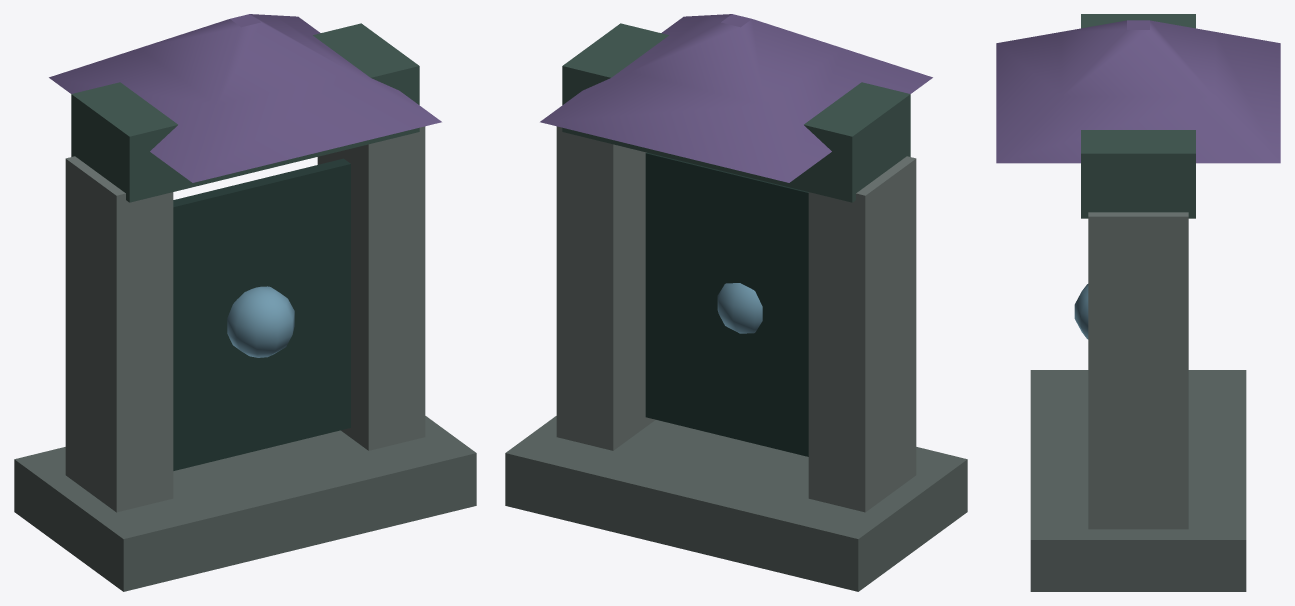
File: node_mi_jing.glb
The picture shows the model from 3 angles, left to right: view 1: azimuth 30°, elevation 25°; view 2: azimuth 150°, elevation 25°; view 3: azimuth 270°, elevation 25°; orthographic projection.
Visible parts, largest first — view 1: _MeshInstance3D_319, _MeshInstance3D_315, _MeshInstance3D_316, _MeshInstance3D_320, _MeshInstance3D_317, _MeshInstance3D_318, _MeshInstance3D_321; view 2: _MeshInstance3D_315, _MeshInstance3D_319, _MeshInstance3D_316, _MeshInstance3D_320, _MeshInstance3D_317, _MeshInstance3D_318, _MeshInstance3D_321; view 3: _MeshInstance3D_320, _MeshInstance3D_315, _MeshInstance3D_317, _MeshInstance3D_318, _MeshInstance3D_321.
Boxes of the visible parts, bbox=[...] form: _MeshInstance3D_319: bbox=[173, 158, 350, 470]; _MeshInstance3D_315: bbox=[14, 416, 476, 591]; _MeshInstance3D_316: bbox=[65, 156, 173, 512]; _MeshInstance3D_320: bbox=[49, 14, 441, 182]; _MeshInstance3D_317: bbox=[317, 126, 425, 450]; _MeshInstance3D_318: bbox=[71, 23, 419, 202]; _MeshInstance3D_321: bbox=[227, 286, 294, 357]; _MeshInstance3D_315: bbox=[505, 416, 967, 591]; _MeshInstance3D_319: bbox=[645, 152, 808, 456]; _MeshInstance3D_316: bbox=[808, 156, 916, 512]; _MeshInstance3D_320: bbox=[540, 14, 932, 182]; _MeshInstance3D_317: bbox=[556, 126, 655, 450]; _MeshInstance3D_318: bbox=[562, 23, 910, 202]; _MeshInstance3D_321: bbox=[717, 283, 762, 333]; _MeshInstance3D_320: bbox=[996, 20, 1280, 163]; _MeshInstance3D_315: bbox=[1030, 370, 1246, 591]; _MeshInstance3D_317: bbox=[1088, 212, 1188, 529]; _MeshInstance3D_318: bbox=[1081, 14, 1195, 218]; _MeshInstance3D_321: bbox=[1074, 284, 1088, 339].
Bounding box in the file's own units: 0.56 × 0.74 × 0.396.
